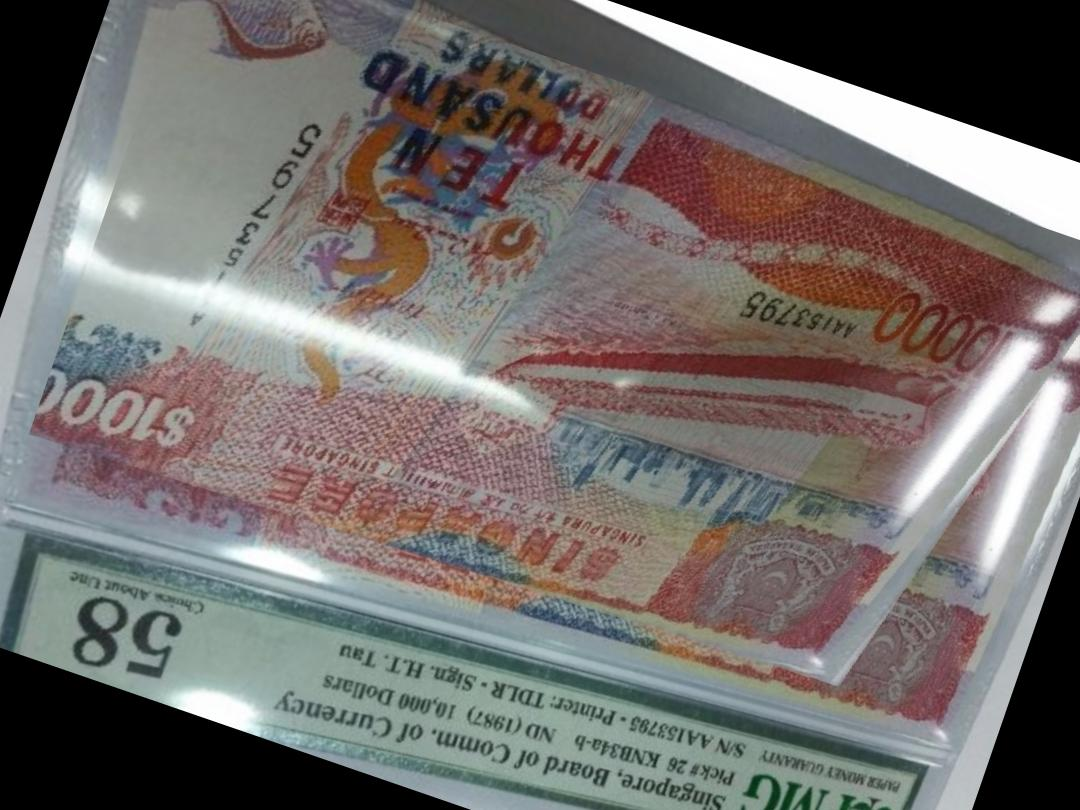10000SingaporeDollar: (28, 0, 1080, 761)
